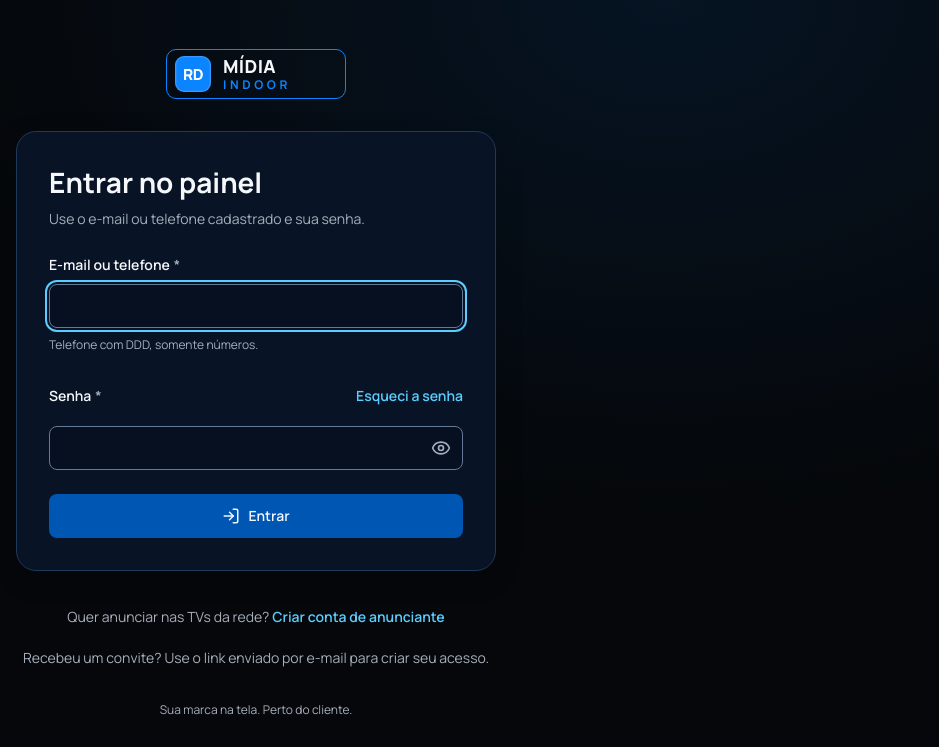
Test: LoginPage › 401 do login mostra a mensagem na própria tela (sem redirecionar nem limpar)
Type "pessoa@exemplo.invalid" into the field labelled "E-mail ou telefone*" at (256, 306), box top-left (49, 284), bottom-right (463, 328)
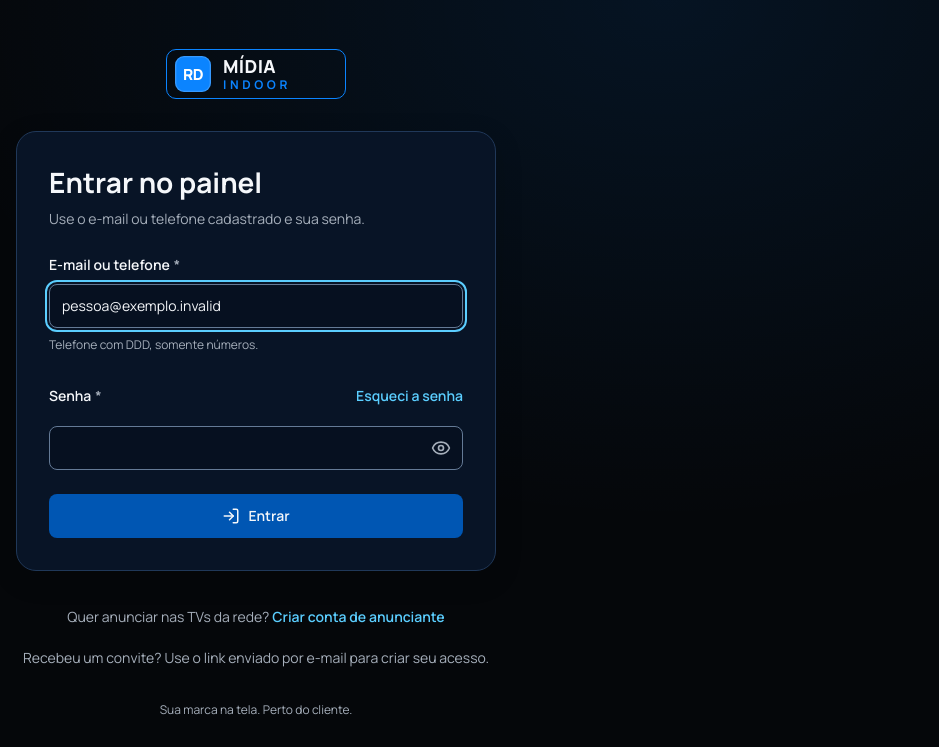
Type "errada" into the password field labelled "Senha*" at (256, 448), box top-left (49, 426), bottom-right (463, 470)
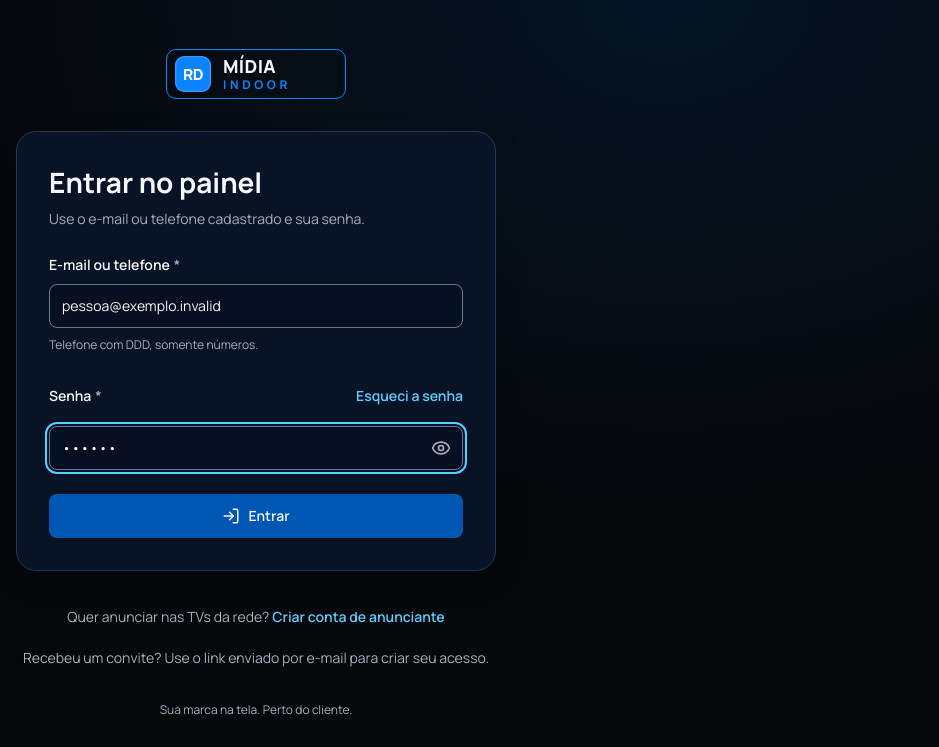
Click the button "Entrar" at (256, 516), box top-left (49, 494), bottom-right (463, 538)
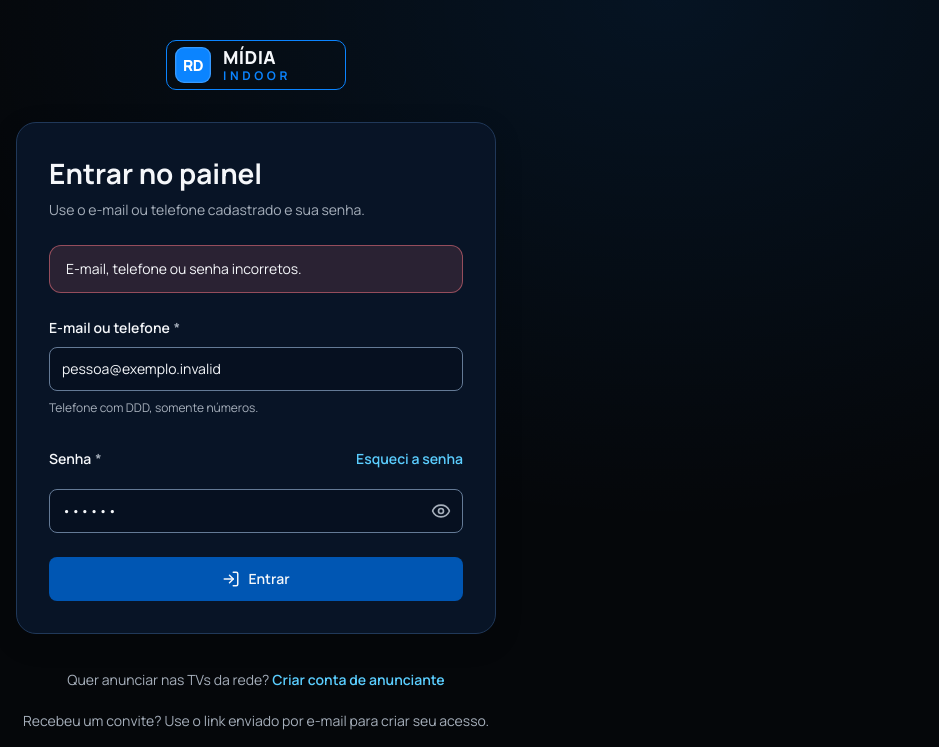
Expected: the heading "Entrar no painel" is shown, top-left (49, 154), bottom-right (262, 192)
Result: the text "E-mail, telefone ou senha incorretos." is shown at top-left (66, 258), bottom-right (302, 280)
